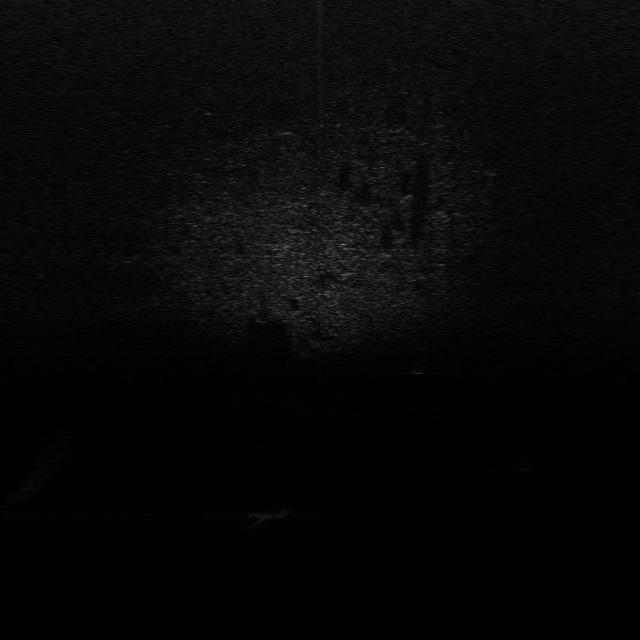ball: (508, 447, 546, 473)
square cage: (250, 504, 296, 523)
tyre: (410, 344, 436, 378)
